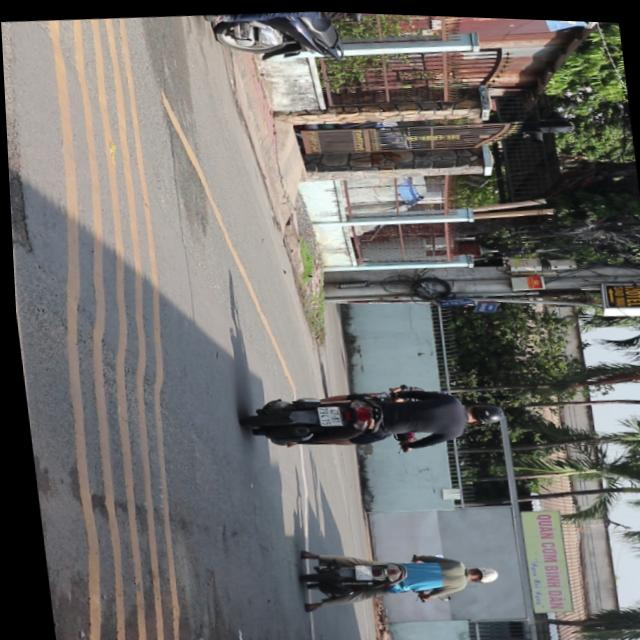helmet: (461, 396, 501, 422)
licenseplate: (236, 369, 506, 461), (195, 6, 462, 70)
nohelmet: (313, 403, 336, 424)
